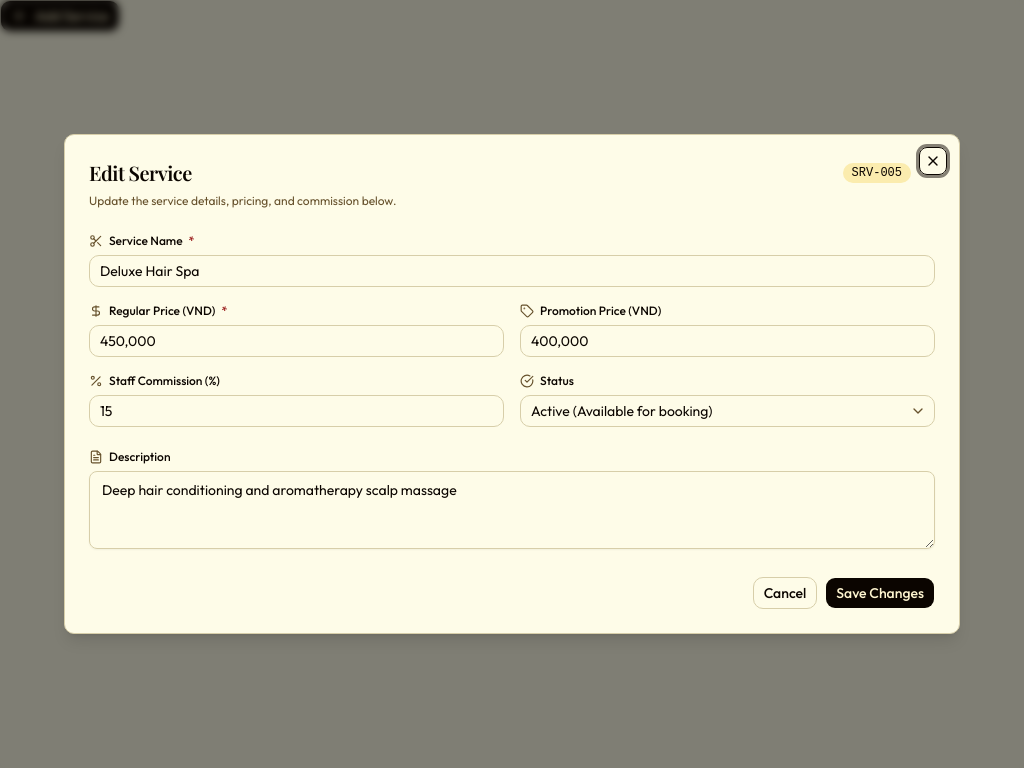
Scenario: ServiceFormDialog - Edit Mode › shows error banner when update action fails
The image size is (1024, 768).
expect the field labelled "Service Name *" holds "Deluxe Hair Spa": met, box [89, 255, 935, 287]
Step 1. Click the button "Save Changes" → point(880, 593), box [825, 577, 935, 609]
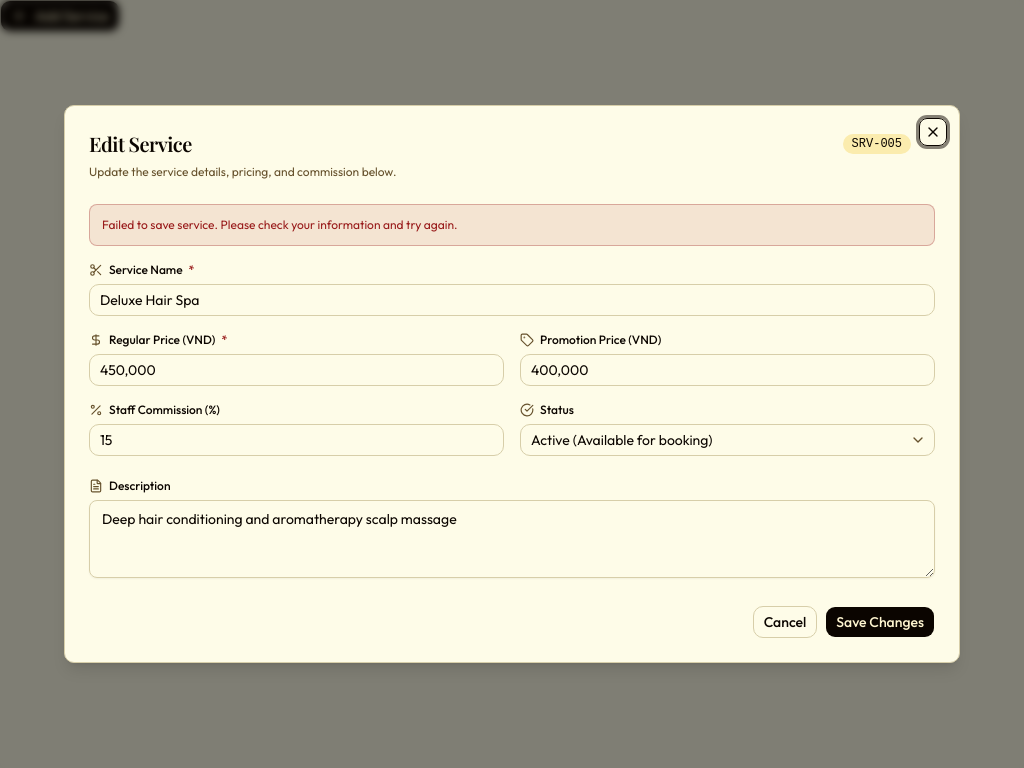
expect the text "Failed to save service. Please check your information and try again." is shown: met, box [89, 204, 935, 246]
